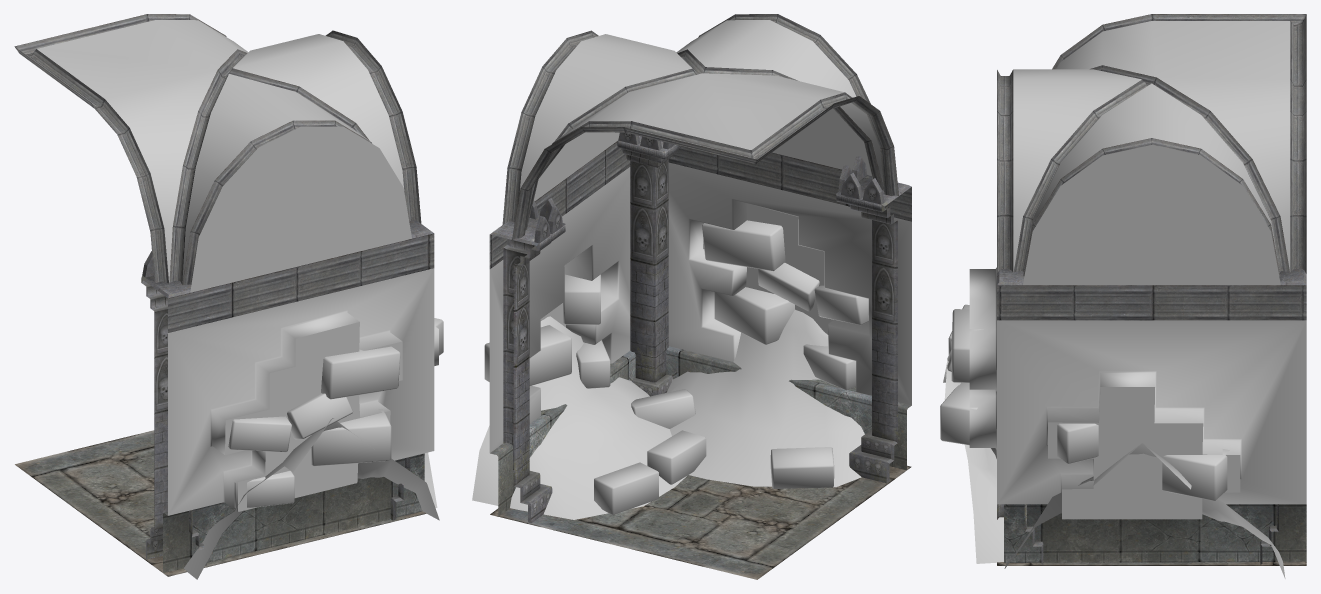
File: Inner_corner_Broken.FBX
The picture shows the model from 3 angles, left to right: view 1: azimuth 30°, elevation 25°; view 2: azimuth 150°, elevation 25°; view 3: azimuth 270°, elevation 25°; orthographic projection.
Visible parts, largest first — view 1: Inside Corner01; view 2: Inside Corner01; view 3: Inside Corner01.
Boxes of the visible parts, <box> form: Inside Corner01: <box>14,14,443,579</box>; Inside Corner01: <box>472,14,911,579</box>; Inside Corner01: <box>940,14,1306,578</box>.
Size of the model in its own units: 595 by 754 by 592.
